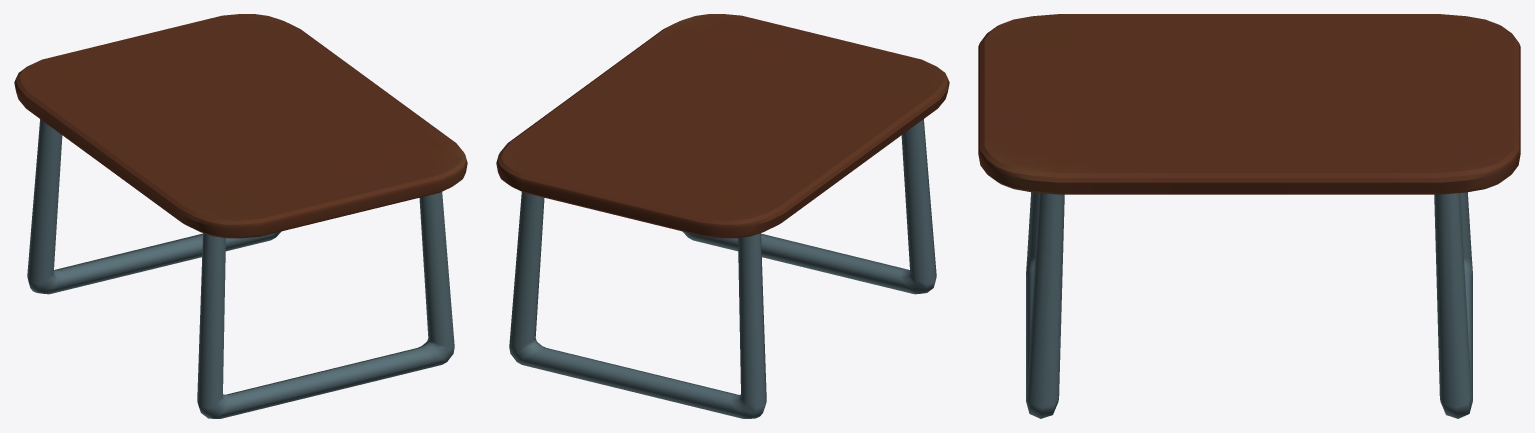
3 views of the same model, side by side, from view 1: azimuth 30°, elevation 25°; view 2: azimuth 150°, elevation 25°; view 3: azimuth 270°, elevation 25° (orthographic). The views are drawn at different scales.
Parts seen in each view (by area): view 1: Table_02_Camping_mat_0; view 2: Table_02_Camping_mat_0; view 3: Table_02_Camping_mat_0.
Part boxes in pixels (x1,y1,x2,y2): Table_02_Camping_mat_0: (14,14,467,418); Table_02_Camping_mat_0: (496,14,949,418); Table_02_Camping_mat_0: (978,14,1520,418).
Size of the model in its own units: 2.01 by 1.46 by 2.8.
1 material, 1 textured.
